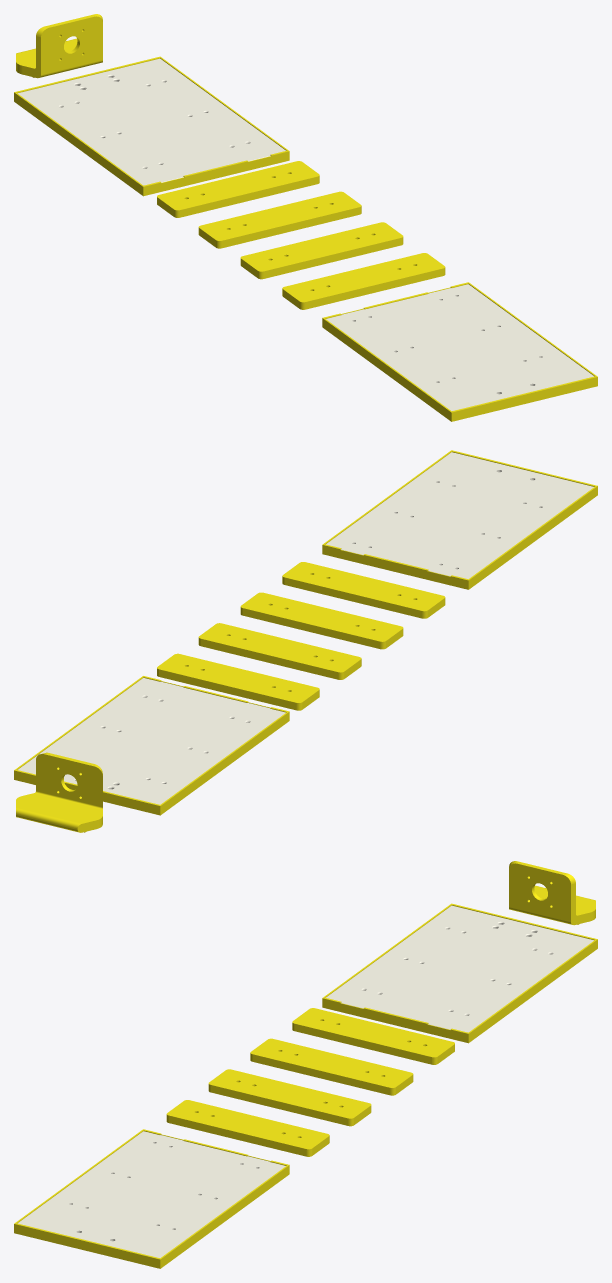
File: FrameLGS.glb
3 views of the same model, one above another, from view 1: azimuth 30°, elevation 25°; view 2: azimuth 150°, elevation 25°; view 3: azimuth 330°, elevation 25° (orthographic).
Visible parts, largest first — view 1: Body1, Body1002, Body1006, Body1010, Body1008, Body1004, Body1021, Body1031, Body1001, Body1029, Body1005; view 2: Body1002, Body1, Body1021, Body1008, Body1010, Body1006, Body1004, Body1033, Body1005, Body1029, Body1037; view 3: Body1, Body1002, Body1006, Body1010, Body1008, Body1004, Body1021, Body1031, Body1001, Body1027, Body1035.
Part boxes in pixels (<box>): Body1: <box>18,58,285,185</box>; Body1002: <box>326,284,593,410</box>; Body1006: <box>198,191,361,248</box>; Body1010: <box>282,253,445,309</box>; Body1008: <box>240,222,403,279</box>; Body1004: <box>157,161,319,217</box>; Body1021: <box>16,14,102,78</box>; Body1031: <box>451,376,597,421</box>; Body1001: <box>143,150,289,196</box>; Body1029: <box>322,318,452,421</box>; Body1005: <box>14,92,143,195</box>; Body1002: <box>326,452,593,579</box>; Body1: <box>18,678,285,804</box>; Body1021: <box>16,752,102,832</box>; Body1008: <box>240,592,403,649</box>; Body1010: <box>282,562,445,618</box>; Body1006: <box>198,623,361,679</box>; Body1004: <box>157,653,319,710</box>; Body1033: <box>322,544,468,589</box>; Body1005: <box>159,711,289,814</box>; Body1029: <box>468,486,597,589</box>; Body1037: <box>14,770,160,815</box>; Body1: <box>326,905,593,1032</box>; Body1002: <box>18,1131,285,1257</box>; Body1006: <box>250,1038,413,1095</box>; Body1010: <box>166,1100,329,1156</box>; Body1008: <box>208,1069,371,1126</box>; Body1004: <box>292,1008,454,1064</box>; Body1021: <box>509,861,595,925</box>; Body1031: <box>14,1223,160,1268</box>; Body1001: <box>322,997,468,1043</box>; Body1027: <box>159,1165,289,1268</box>; Body1035: <box>468,939,597,1042</box>.
Size of the model in its own units: 2.02 by 0.672 by 11.42.
